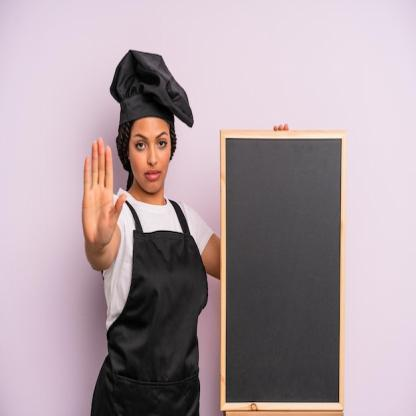stop: (81, 134, 127, 250)
